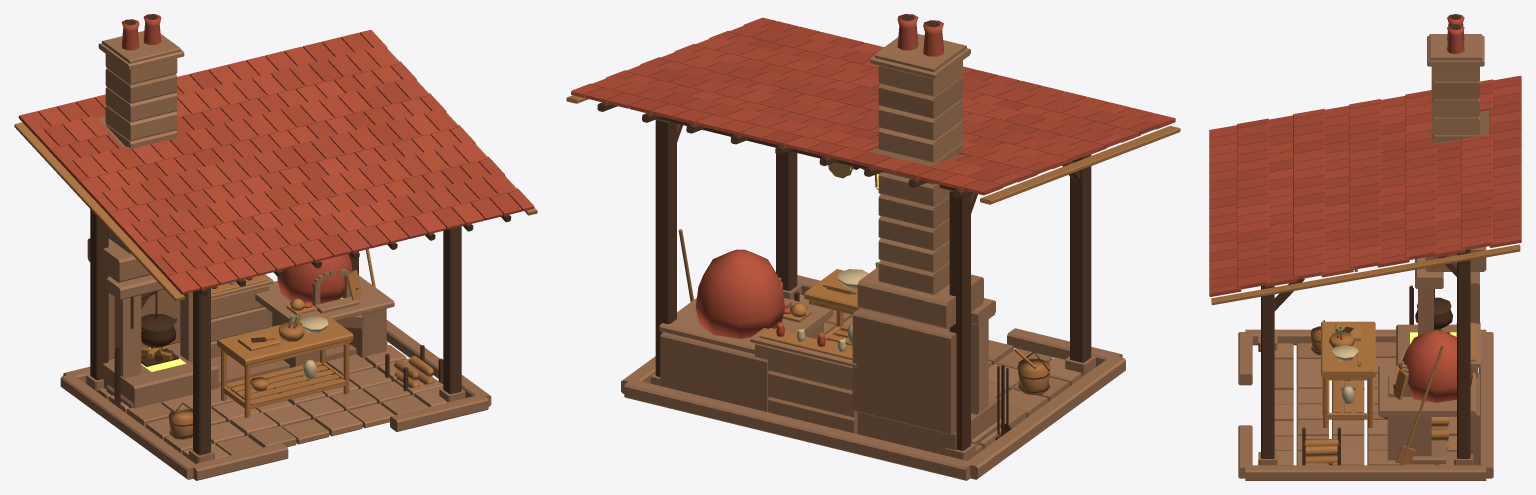
File: building_farm_kitchen_a.glb
3 views of the same model, side by side, from view 1: azimuth 30°, elevation 25°; view 2: azimuth 150°, elevation 25°; view 3: azimuth 270°, elevation 25° (orthographic). The views are drawn at different scales.
Parts seen in each view (by area): view 1: building_farm_kitchen_a_mesh; view 2: building_farm_kitchen_a_mesh; view 3: building_farm_kitchen_a_mesh.
Boxes of the visible parts, <box> form: building_farm_kitchen_a_mesh: <box>14,14,537,480</box>; building_farm_kitchen_a_mesh: <box>566,14,1180,480</box>; building_farm_kitchen_a_mesh: <box>1209,14,1521,480</box>.
Size of the model in its own units: 4.97 by 4.77 by 3.89.
